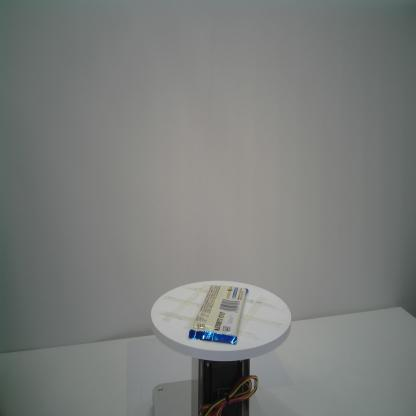Chocolate: (188, 284, 248, 346)
